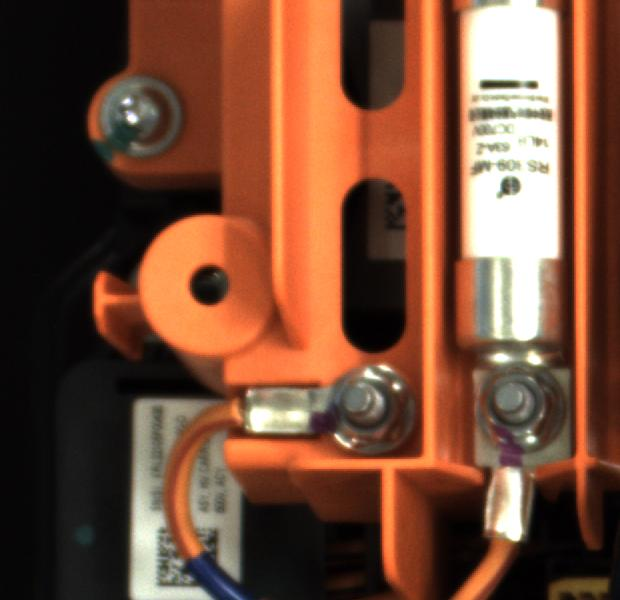screw_m: (82, 70, 199, 165)
screw_s: (471, 361, 576, 457), (323, 362, 411, 449)
